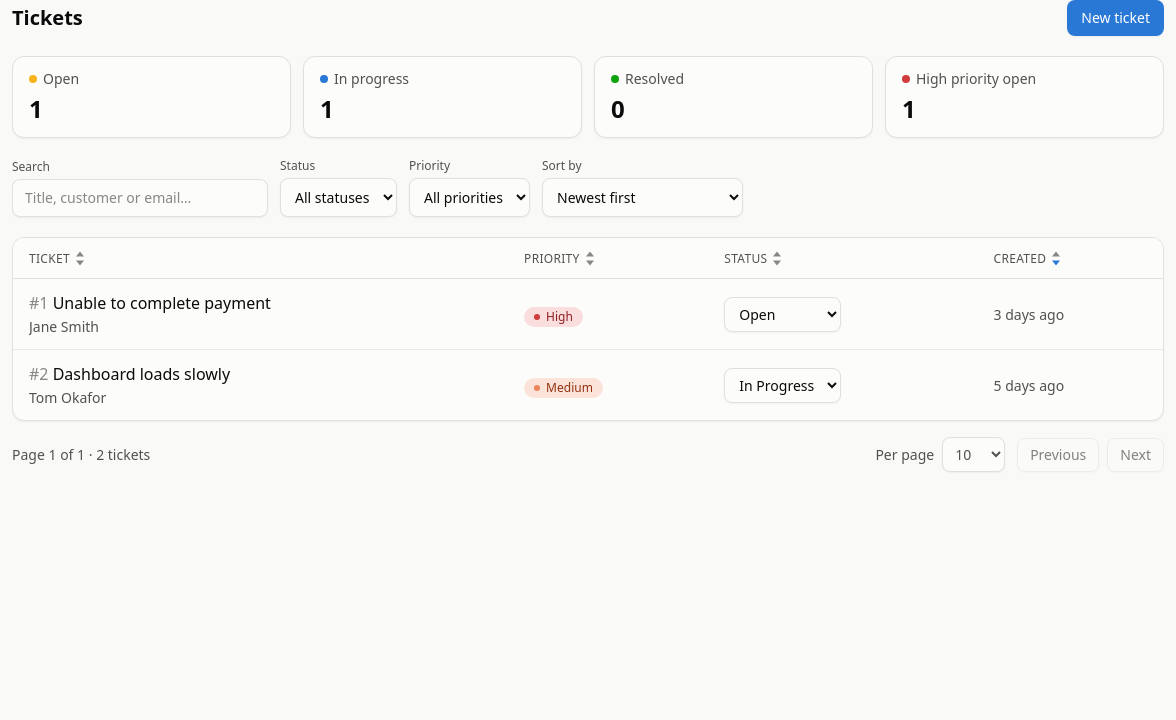
TicketListPage › PATCHes a status change and confirms with a toast
Select "Resolved" in the dropdown named "status for \"unable to complete payment\"" at (783, 314), box [724,296,841,332]
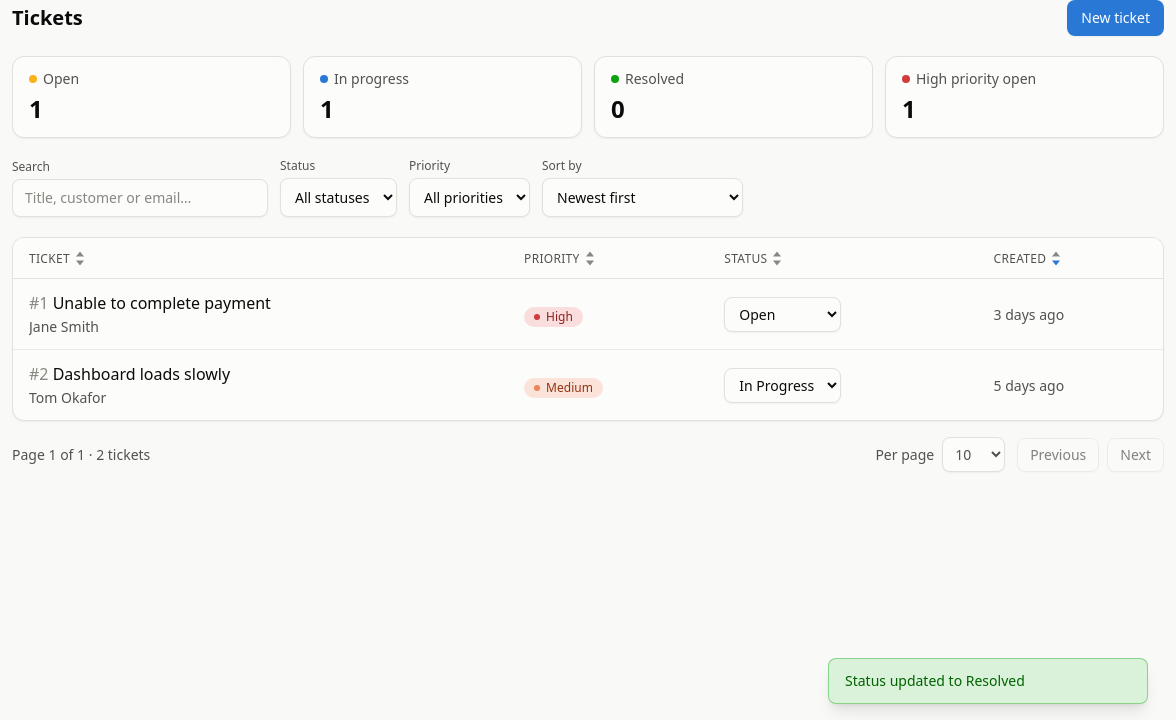
Now the text "Status updated to Resolved" is shown, box [828,658,1148,704]
